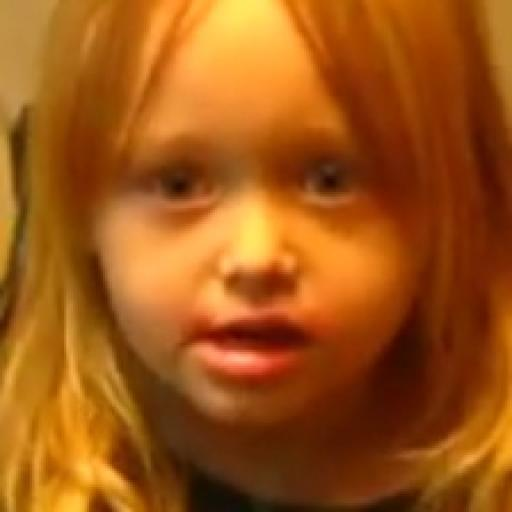Autism: (59, 1, 486, 463)
